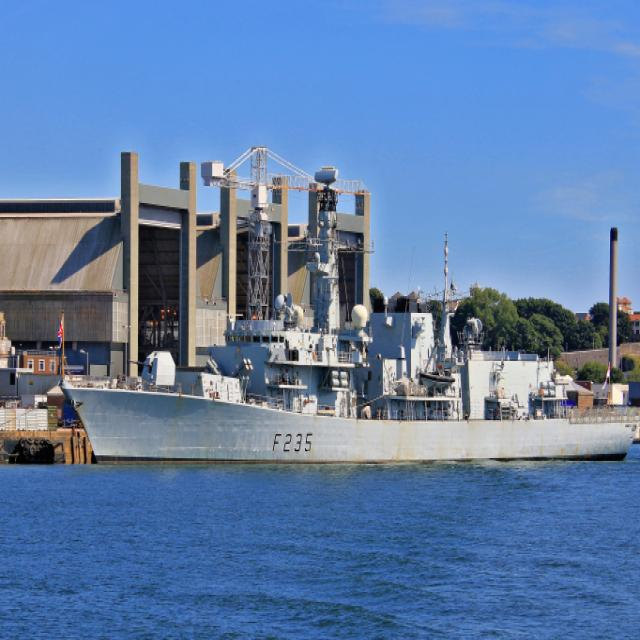Fragata: (54, 224, 640, 472)
